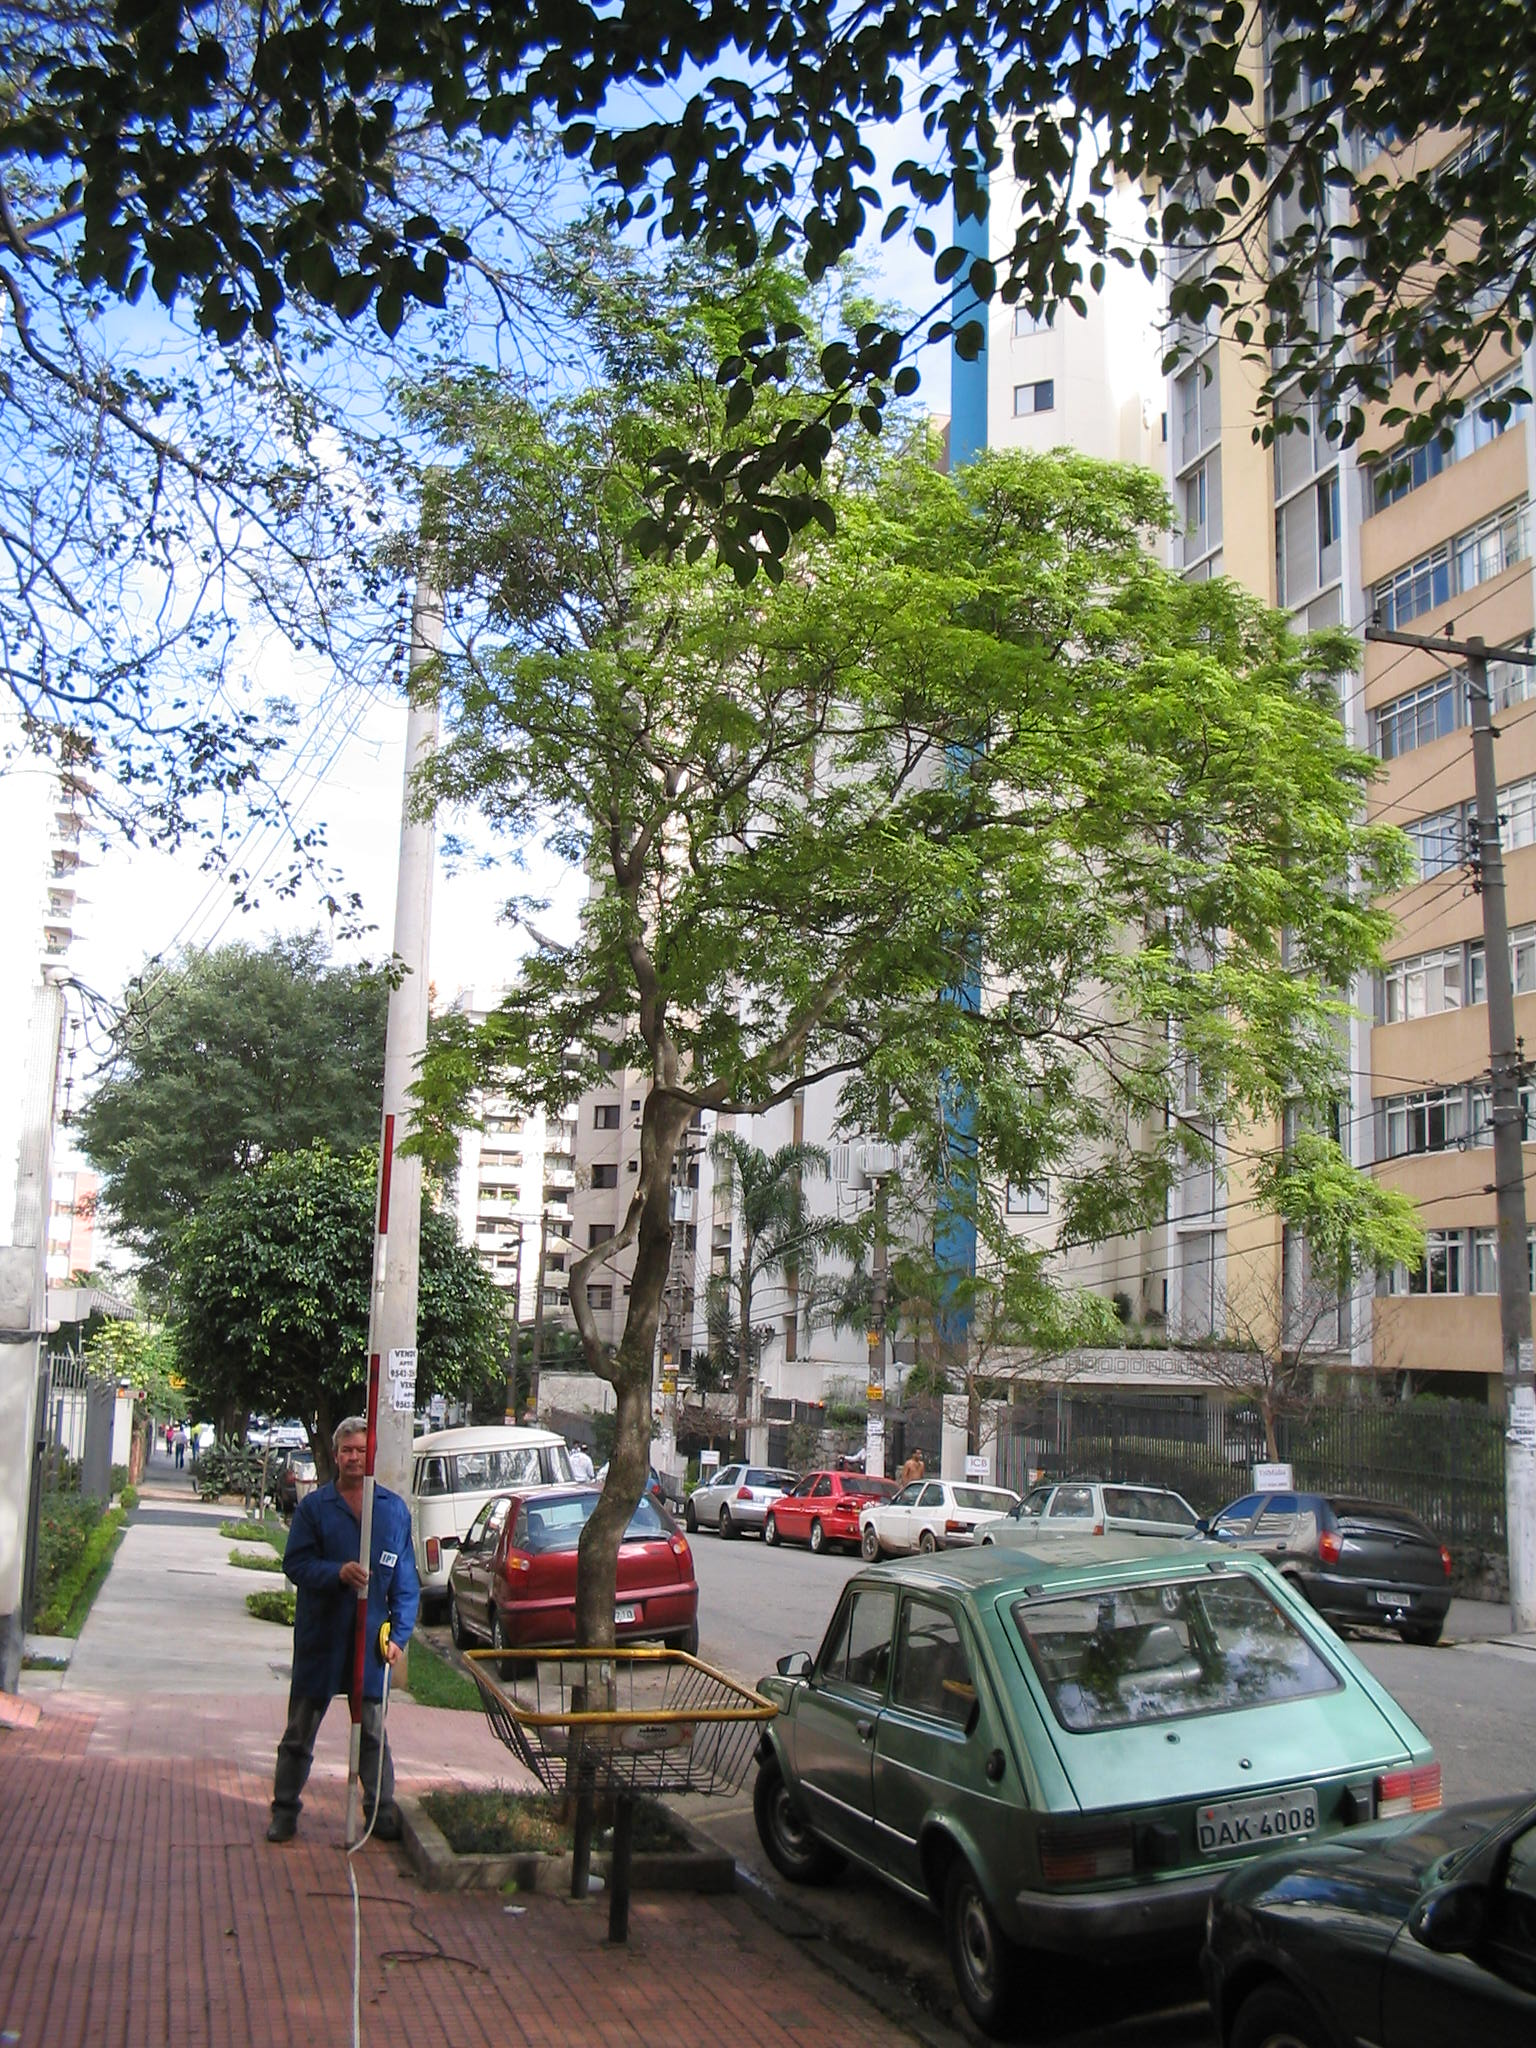crown: (411, 240, 1447, 1287)
stem: (532, 1397, 679, 1834)
stick: (323, 1113, 416, 1850)
tree: (407, 234, 1459, 1834)
